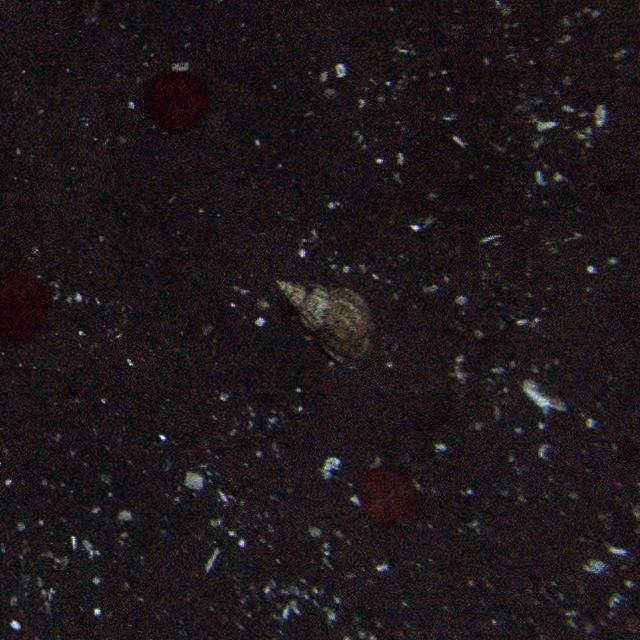whelk: (269, 274, 380, 365)
